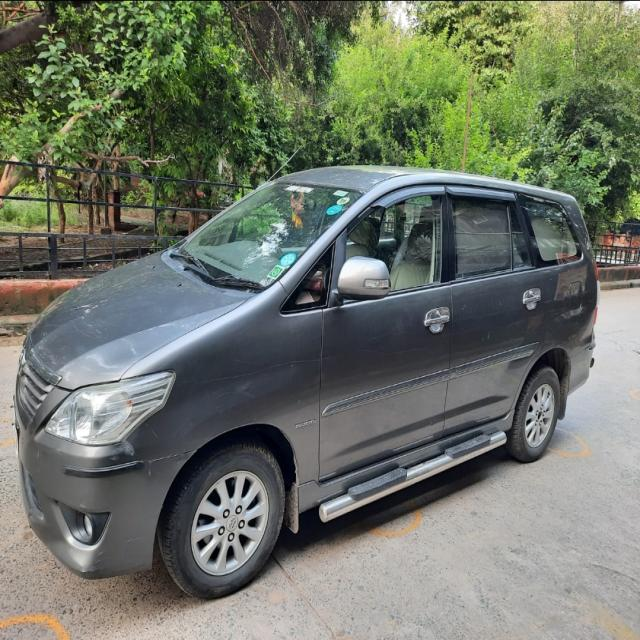light_vehicle: (10, 164, 603, 599)
